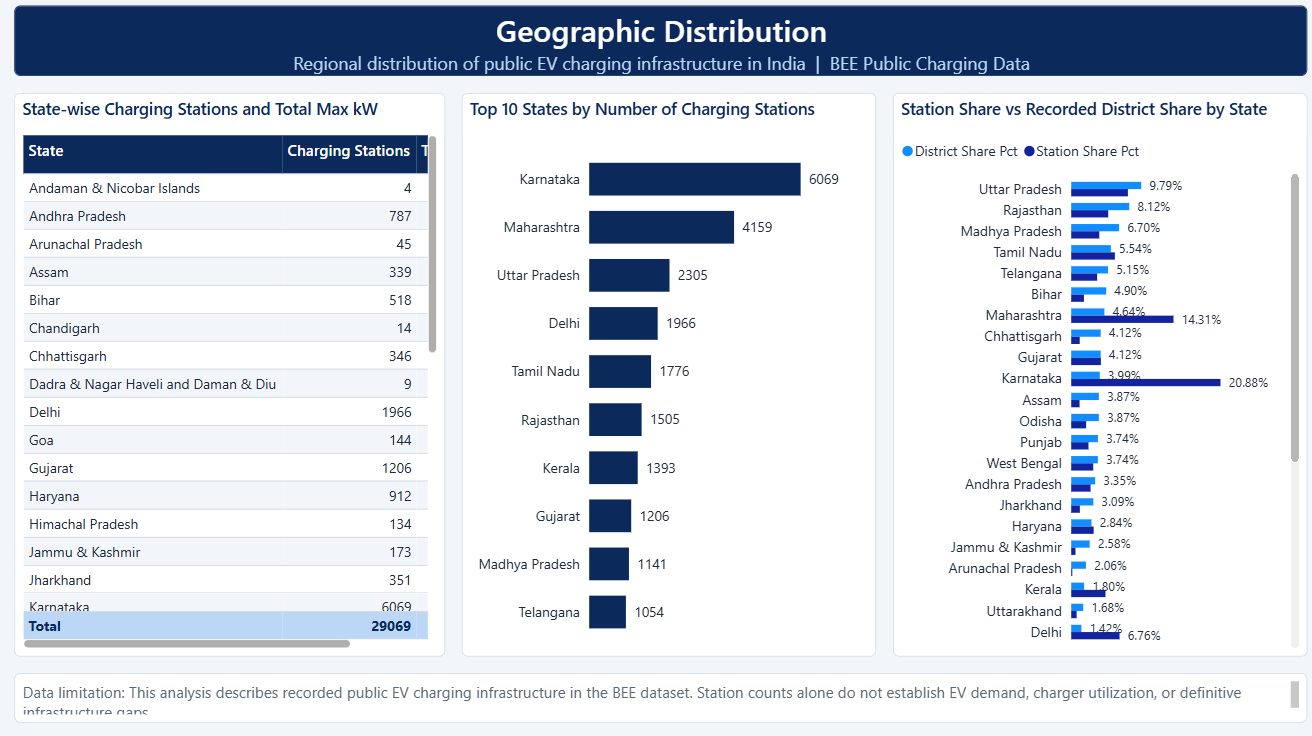

Layout of this report page (visuals, bound fields, positions):
{"tool":"powerbi","page":{"name":"Geographic Distribution","canvas":[1280,720],"ordinal":2},"visuals":[{"type":"textbox","title":"Geographic Distribution","box":[16,12,1248,68],"z":0},{"type":"textbox","box":[16,656,1248,48],"z":1000},{"type":"tableEx","title":"State-wise Charging Stations and Total Max kW","fields":{"Values":["bee_ev_stations.State","Count(bee_ev_stations.Station_ID)","Avg(bee_ev_stations.Max_kW)"]},"box":[16,96,416,544],"z":2000},{"type":"clusteredBarChart","title":"Top 10 States by Number of Charging Stations","fields":{"Category":["bee_ev_stations.State"],"Y":["CountNonNull(bee_ev_stations.Station_ID)"]},"box":[448,96,400,544],"z":3000},{"type":"clusteredBarChart","title":"Station Share vs Recorded District Share by State","fields":{"Y":["bee_ev_stations.District Share Pct","bee_ev_stations.Station Share Pct"],"Category":["bee_ev_stations.State"]},"box":[864,96,400,544],"z":4000}]}

Visuals, with their boxes in screenshot pixels (x1, y1, x2, y2), scaled from the page's 1280x720 canvas onto the 1312x736 screenshot:
"Geographic Distribution" textbox: 16 12 1296 82
textbox: 16 671 1296 720
"State-wise Charging Stations and Total Max kW" tableEx: 16 98 443 654
"Top 10 States by Number of Charging Stations" clusteredBarChart: 459 98 869 654
"Station Share vs Recorded District Share by State" clusteredBarChart: 886 98 1296 654
